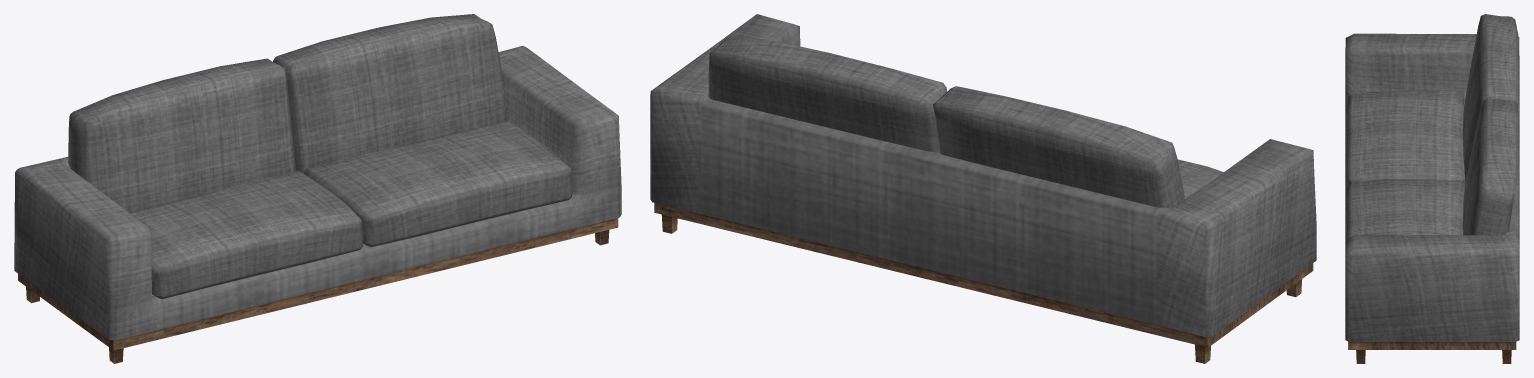
The model's file is sofa.obj.
3 renders of one model, left to right at view 1: azimuth 30°, elevation 25°; view 2: azimuth 150°, elevation 25°; view 3: azimuth 270°, elevation 25°, orthographic. The views are drawn at different scales.
Parts seen in each view (by area): view 1: Cube.003; view 2: Cube.003; view 3: Cube.003.
Boxes of the visible parts, <box> form: Cube.003: <box>14,14,621,363</box>; Cube.003: <box>650,14,1316,363</box>; Cube.003: <box>1345,14,1519,363</box>.
Bounding box in the file's own units: 6.1 × 2.13 × 2.04.
